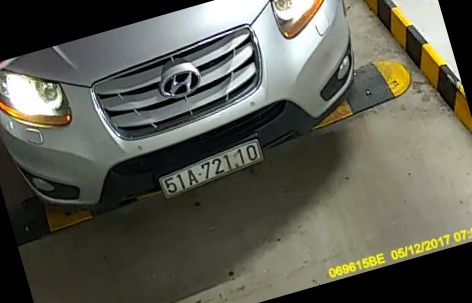plate: (151, 139, 270, 199)
